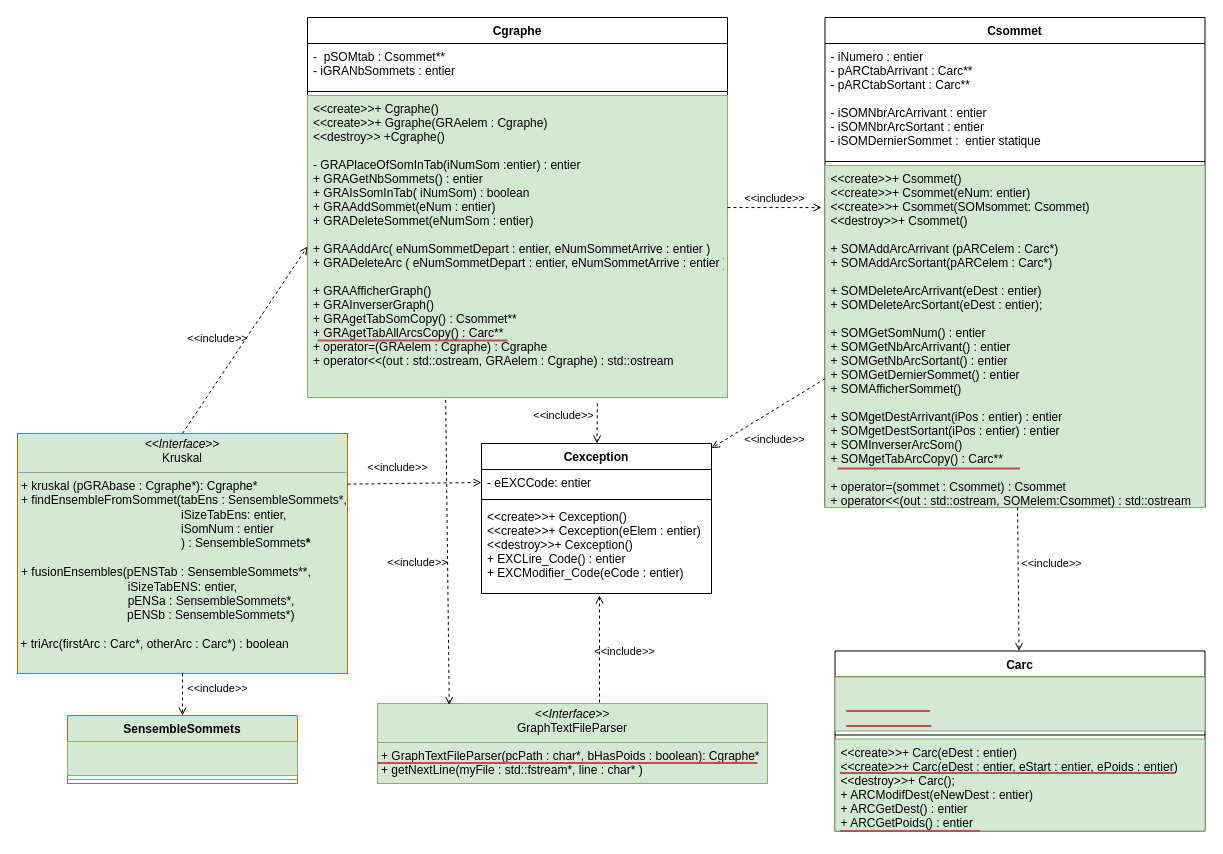
Some shapes in this 1223 by 854 pixel diagram are drawn without their labels. Each missing label, with the centre of its shape:
"+ pSOMtab: Csommet** + iTailleTab : entier" goes at (x=182, y=758).
"- iDestination : entier - iDepart : entier - iPoids : entier" goes at (x=1019, y=703).
